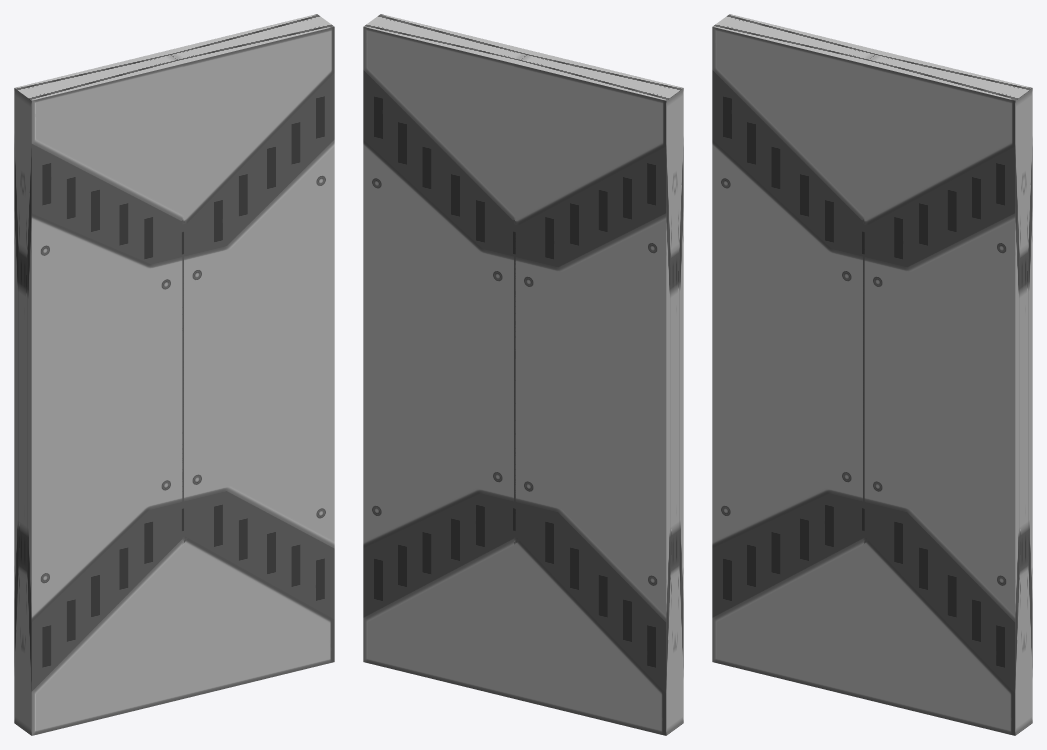
Rendered from half_wall_piece.FBX.
3 views of the same model, side by side, from view 1: azimuth 30°, elevation 25°; view 2: azimuth 150°, elevation 25°; view 3: azimuth 330°, elevation 25° (orthographic).
Visible parts, largest first — view 1: half_wall_piece; view 2: half_wall_piece; view 3: half_wall_piece.
Part boxes in pixels (x1=…): half_wall_piece: x1=14, y1=14, x2=334, y2=735; half_wall_piece: x1=363, y1=14, x2=683, y2=735; half_wall_piece: x1=712, y1=14, x2=1032, y2=735.
Bounding box in the file's own units: 200 × 20 × 400.
